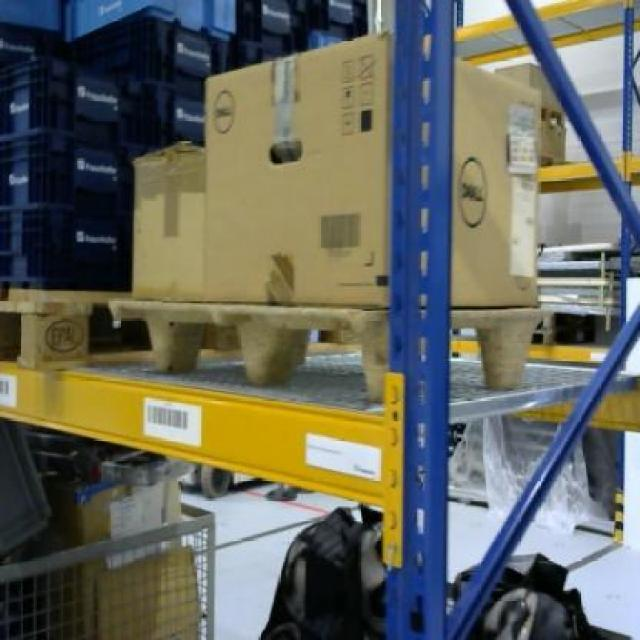box: (207, 33, 536, 309), (130, 143, 206, 302)
